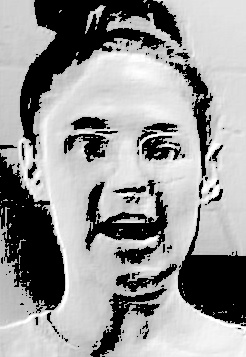nose_M_C: (107, 140, 149, 206)
